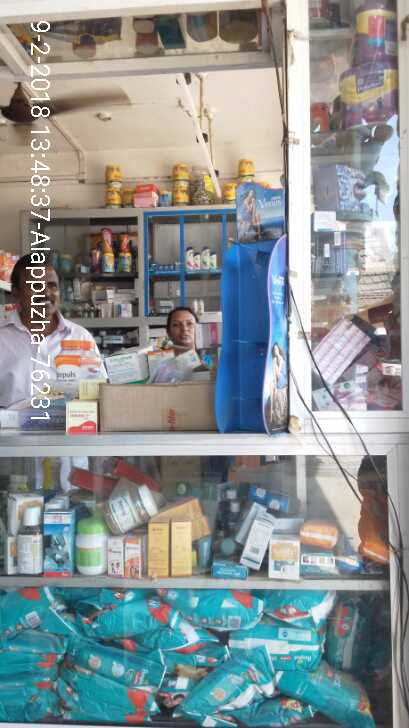reject: (150, 474, 284, 613)
